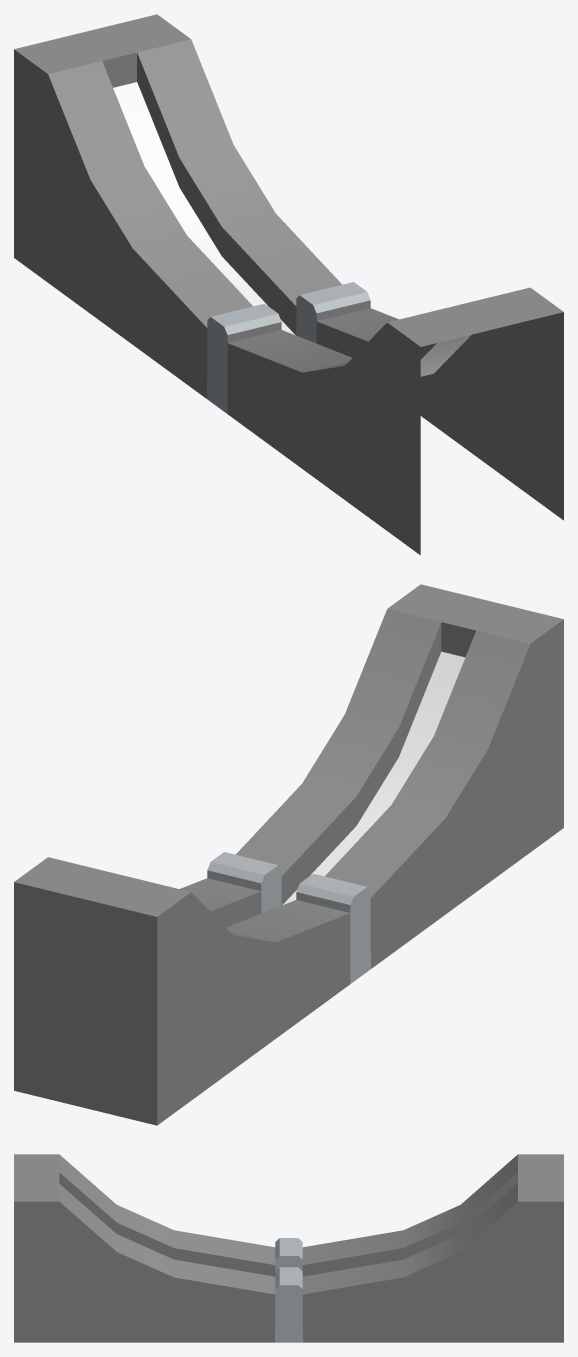
File: Pillar Light 01.FBX
3 renders of one model, top to bottom at view 1: azimuth 30°, elevation 25°; view 2: azimuth 150°, elevation 25°; view 3: azimuth 270°, elevation 25°, orthographic. The views are drawn at different scales.
Visible parts, largest first — view 1: Pillar Light 01; view 2: Pillar Light 01; view 3: Pillar Light 01.
Boxes of the visible parts, x1=… form: Pillar Light 01: x1=14, y1=14, x2=563, y2=555; Pillar Light 01: x1=14, y1=584, x2=563, y2=1125; Pillar Light 01: x1=14, y1=1154, x2=563, y2=1342.
Bounding box in the file's own units: 60.96 × 84.9 × 300.
1 material, 1 textured.
